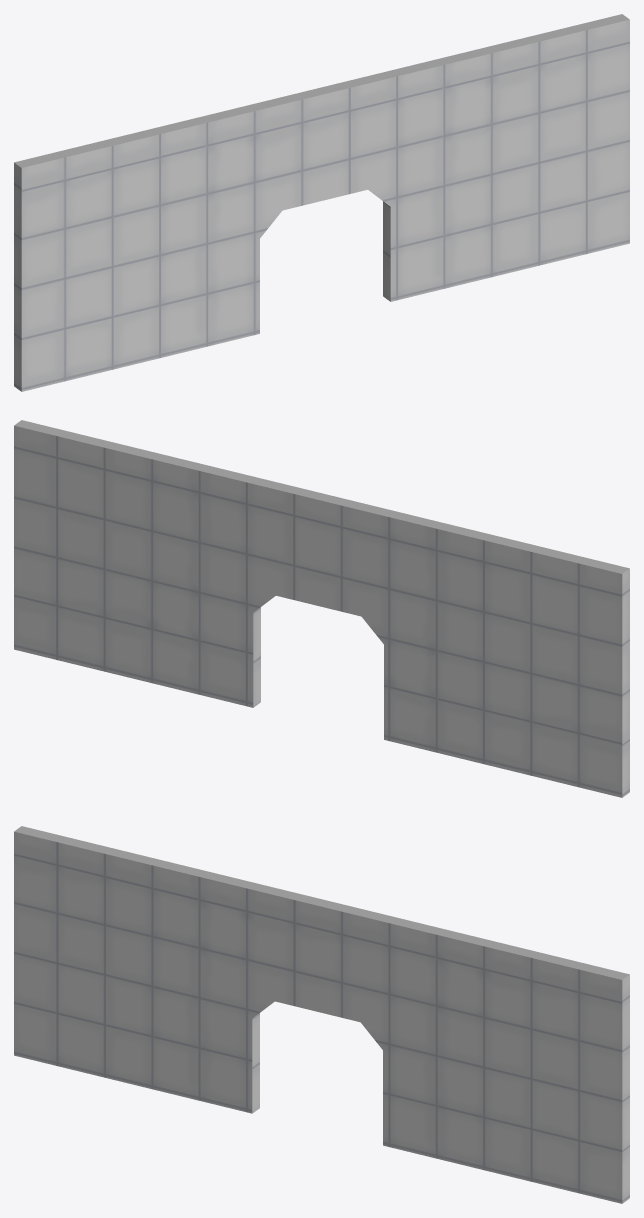
File: Doorway_Wide.fbx
The picture shows the model from 3 angles, top to bottom: view 1: azimuth 30°, elevation 25°; view 2: azimuth 150°, elevation 25°; view 3: azimuth 330°, elevation 25°; orthographic projection.
Visible parts, largest first — view 1: pCube17; view 2: pCube17; view 3: pCube17.
Boxes of the visible parts, x1,y1,x2,y2 form: pCube17: (14, 14, 629, 391); pCube17: (14, 420, 629, 797); pCube17: (14, 826, 629, 1203).
Size of the model in its own units: 2286 by 804 by 50.
Materials: 2 (1 with a texture image).
